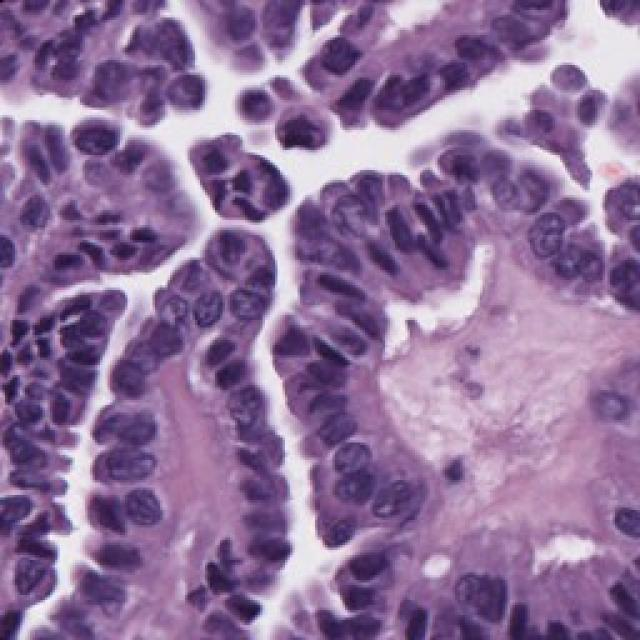abnormal: (202, 368, 280, 444), (320, 180, 402, 247), (55, 108, 125, 177), (87, 442, 178, 495), (2, 545, 70, 610), (90, 402, 168, 458), (110, 484, 178, 548), (498, 152, 557, 225), (124, 318, 208, 367), (327, 536, 400, 592), (317, 423, 385, 480), (200, 218, 260, 282), (160, 70, 217, 132), (103, 355, 173, 405), (515, 205, 573, 263), (181, 282, 236, 340), (217, 277, 273, 328), (321, 467, 376, 515)
